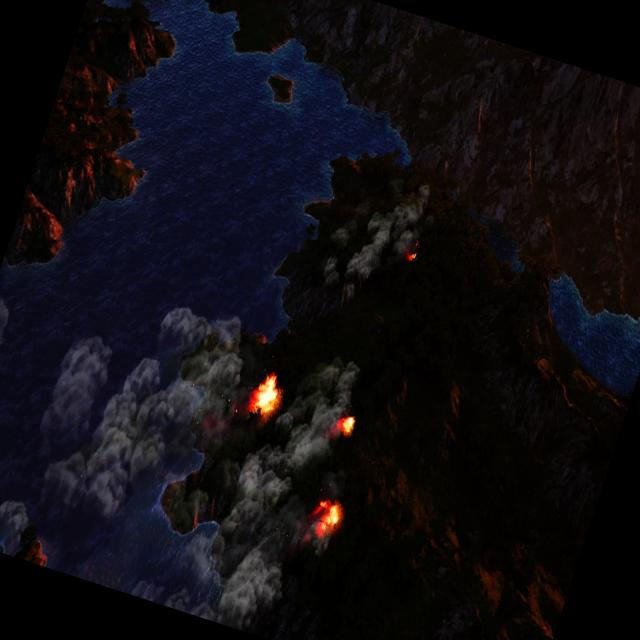fire: (248, 371, 286, 419), (308, 495, 348, 539), (338, 414, 357, 438), (405, 240, 421, 263)
smoke: (9, 268, 262, 564), (174, 328, 388, 640), (316, 162, 438, 316), (0, 492, 37, 558), (0, 293, 18, 372)
